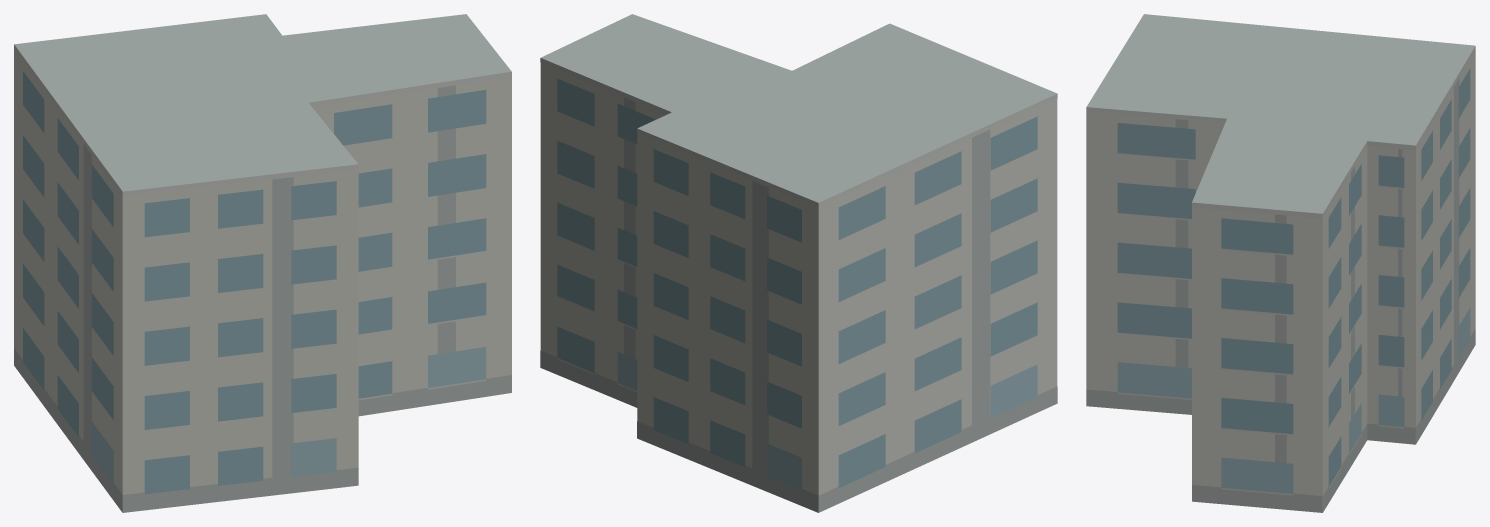
The model's file is survey-upis-32765202.glb.
The picture shows the model from 3 angles, left to right: view 1: azimuth 30°, elevation 25°; view 2: azimuth 150°, elevation 25°; view 3: azimuth 270°, elevation 25°; orthographic projection. The views are drawn at different scales.
Visible parts, largest first — view 1: survey-upis-32765202.tmp; view 2: survey-upis-32765202.tmp; view 3: survey-upis-32765202.tmp.
Part boxes in pixels (<box>): survey-upis-32765202.tmp: <box>14,14,511,512</box>; survey-upis-32765202.tmp: <box>540,14,1057,512</box>; survey-upis-32765202.tmp: <box>1086,14,1475,512</box>.
Bounding box in the file's own units: 21.64 × 15.1 × 17.82.
